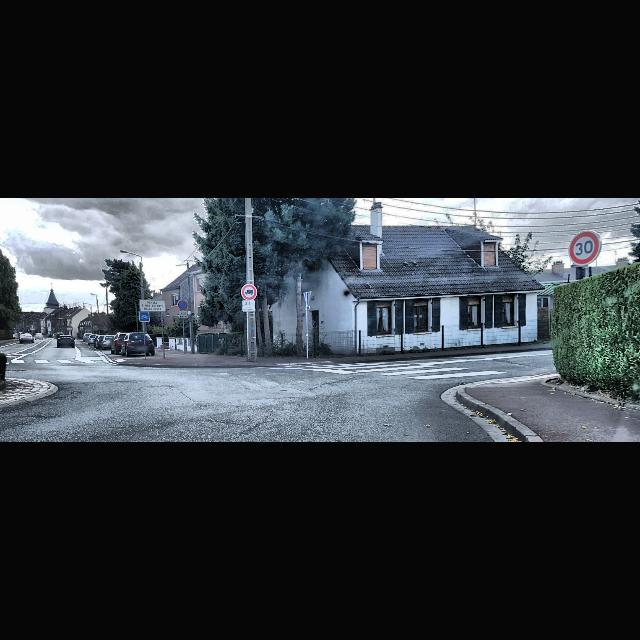speed_30: (569, 232, 601, 264)
